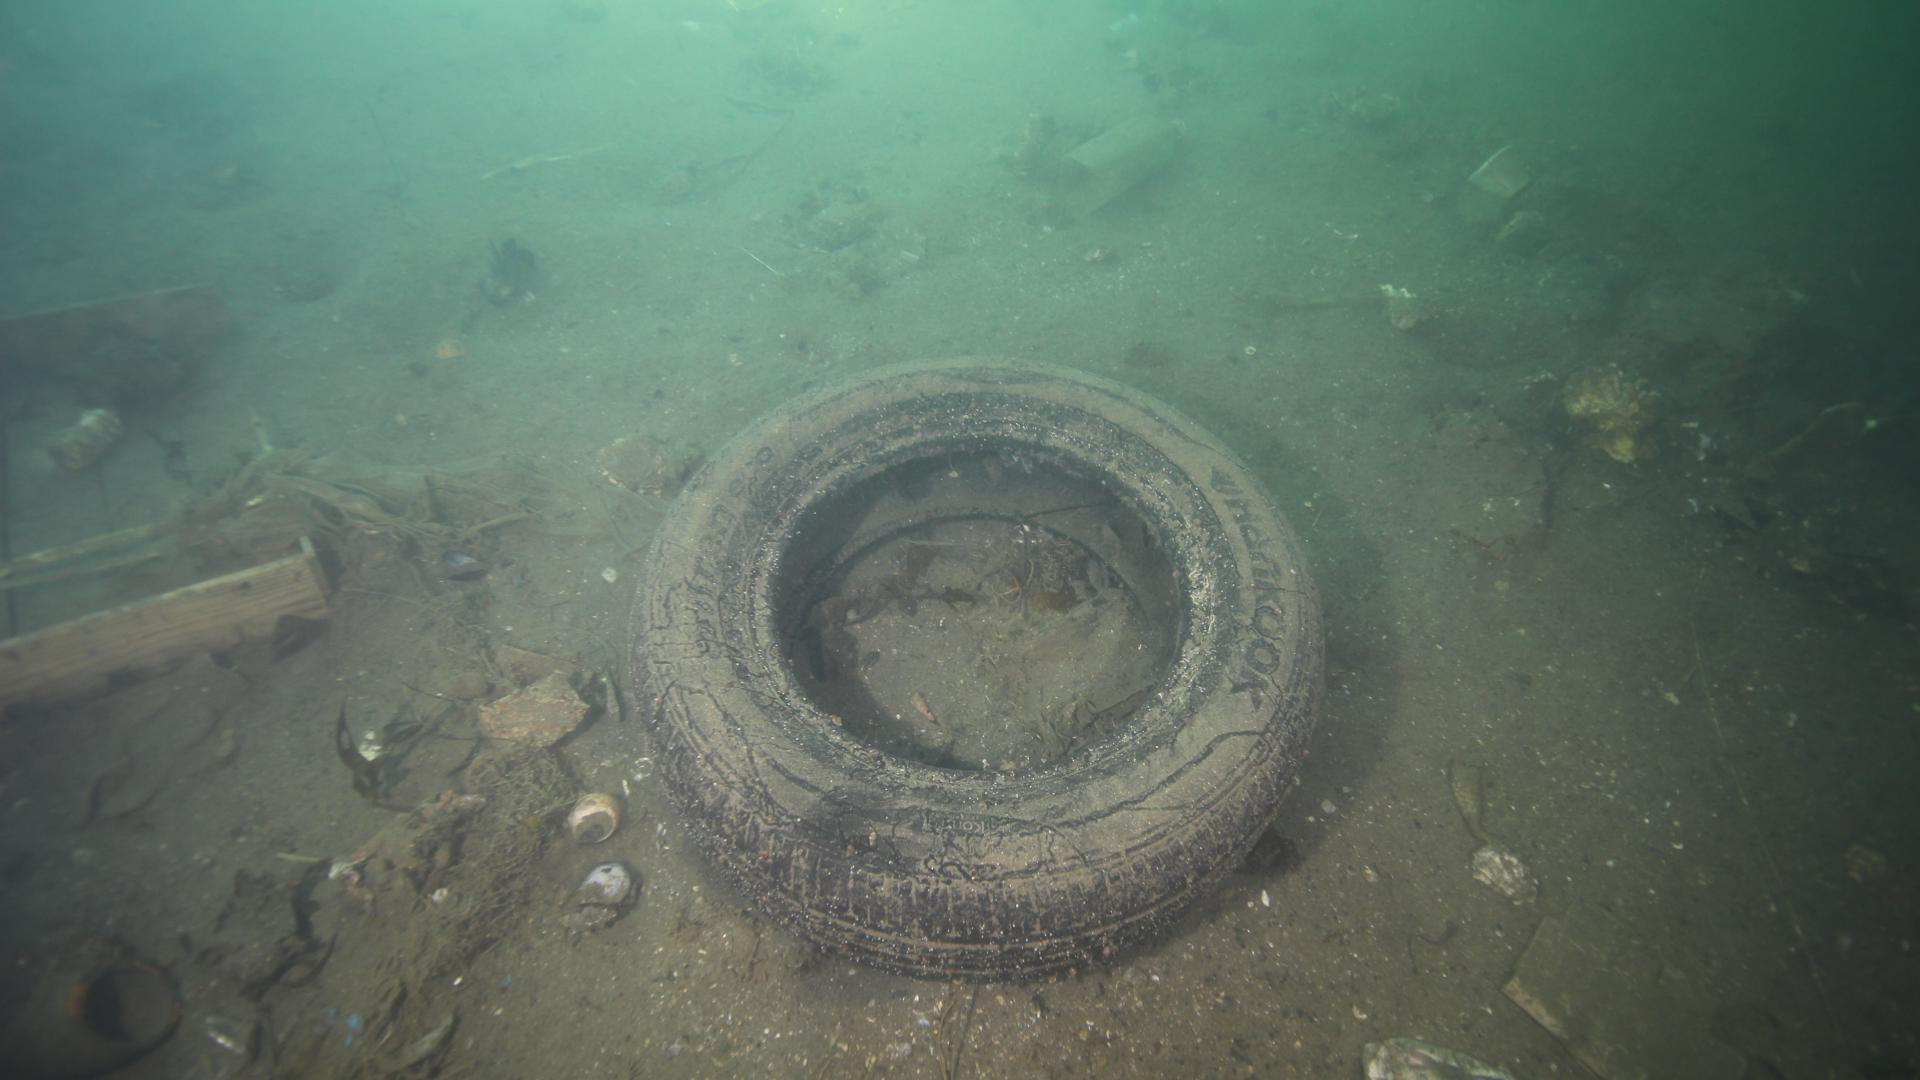tire: (633, 349, 1331, 975)
